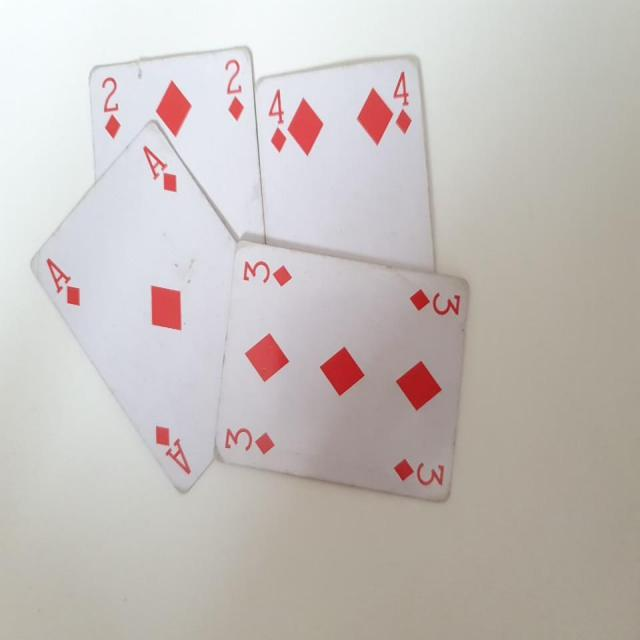2 Diamonds: (84, 42, 268, 253)
3 Diamonds: (212, 236, 471, 505)
4 Diamonds: (252, 54, 439, 286)
A Diamonds: (23, 123, 242, 500)
